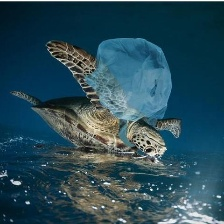plastic_bag: (84, 33, 177, 150)
